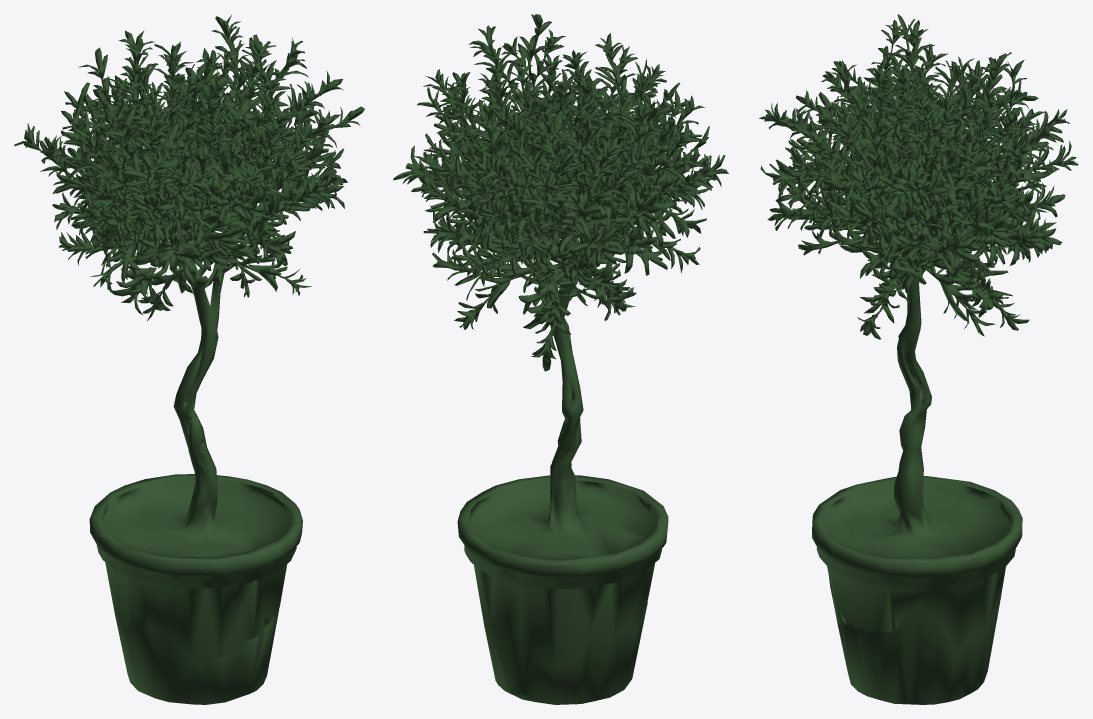
Rendered from gen-olive-tree-potted-1.glb.
3 renders of one model, left to right at view 1: azimuth 30°, elevation 25°; view 2: azimuth 150°, elevation 25°; view 3: azimuth 270°, elevation 25°, orthographic.
Visible parts, largest first — view 1: gen-olive-tree-potted-1_part1; view 2: gen-olive-tree-potted-1_part1; view 3: gen-olive-tree-potted-1_part1.
Part boxes in pixels (left/top/right/bottom): gen-olive-tree-potted-1_part1: left=14, top=15, right=364, bottom=704; gen-olive-tree-potted-1_part1: left=393, top=14, right=728, bottom=704; gen-olive-tree-potted-1_part1: left=759, top=14, right=1078, bottom=704.
Size of the model in its own units: 884 by 1800 by 819.
